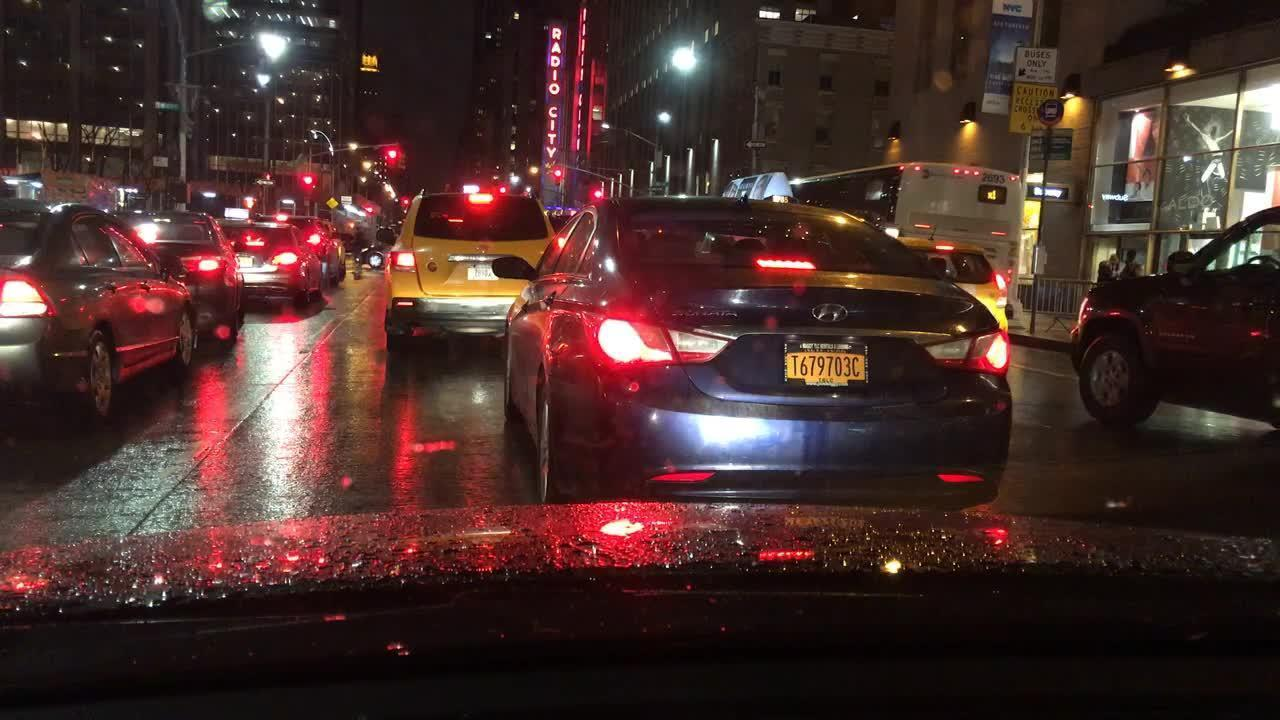Hyundai: (801, 289, 859, 331)
